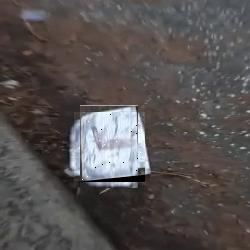metal: (74, 112, 145, 182)
